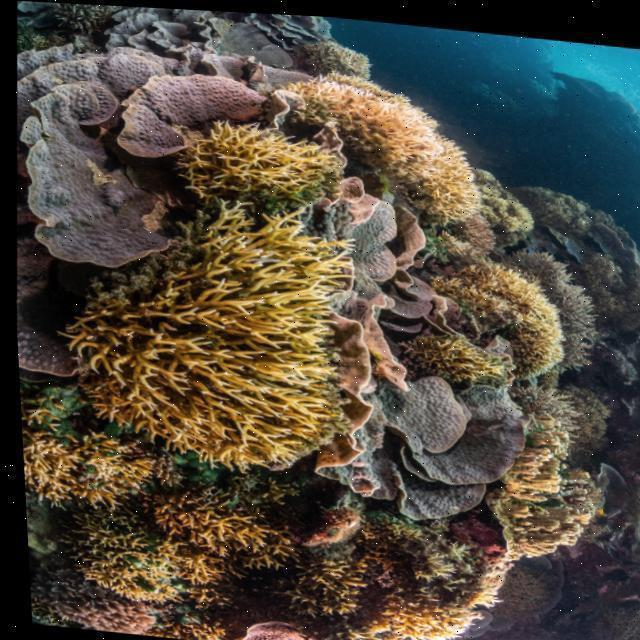Healthy Coral: (56, 210, 346, 487), (2, 16, 269, 313), (288, 67, 482, 232), (357, 362, 524, 537), (307, 542, 524, 640), (491, 373, 598, 564), (63, 501, 191, 618), (17, 410, 149, 521), (130, 484, 265, 568), (445, 264, 569, 355), (34, 593, 199, 640), (217, 614, 306, 640), (359, 540, 395, 581)
